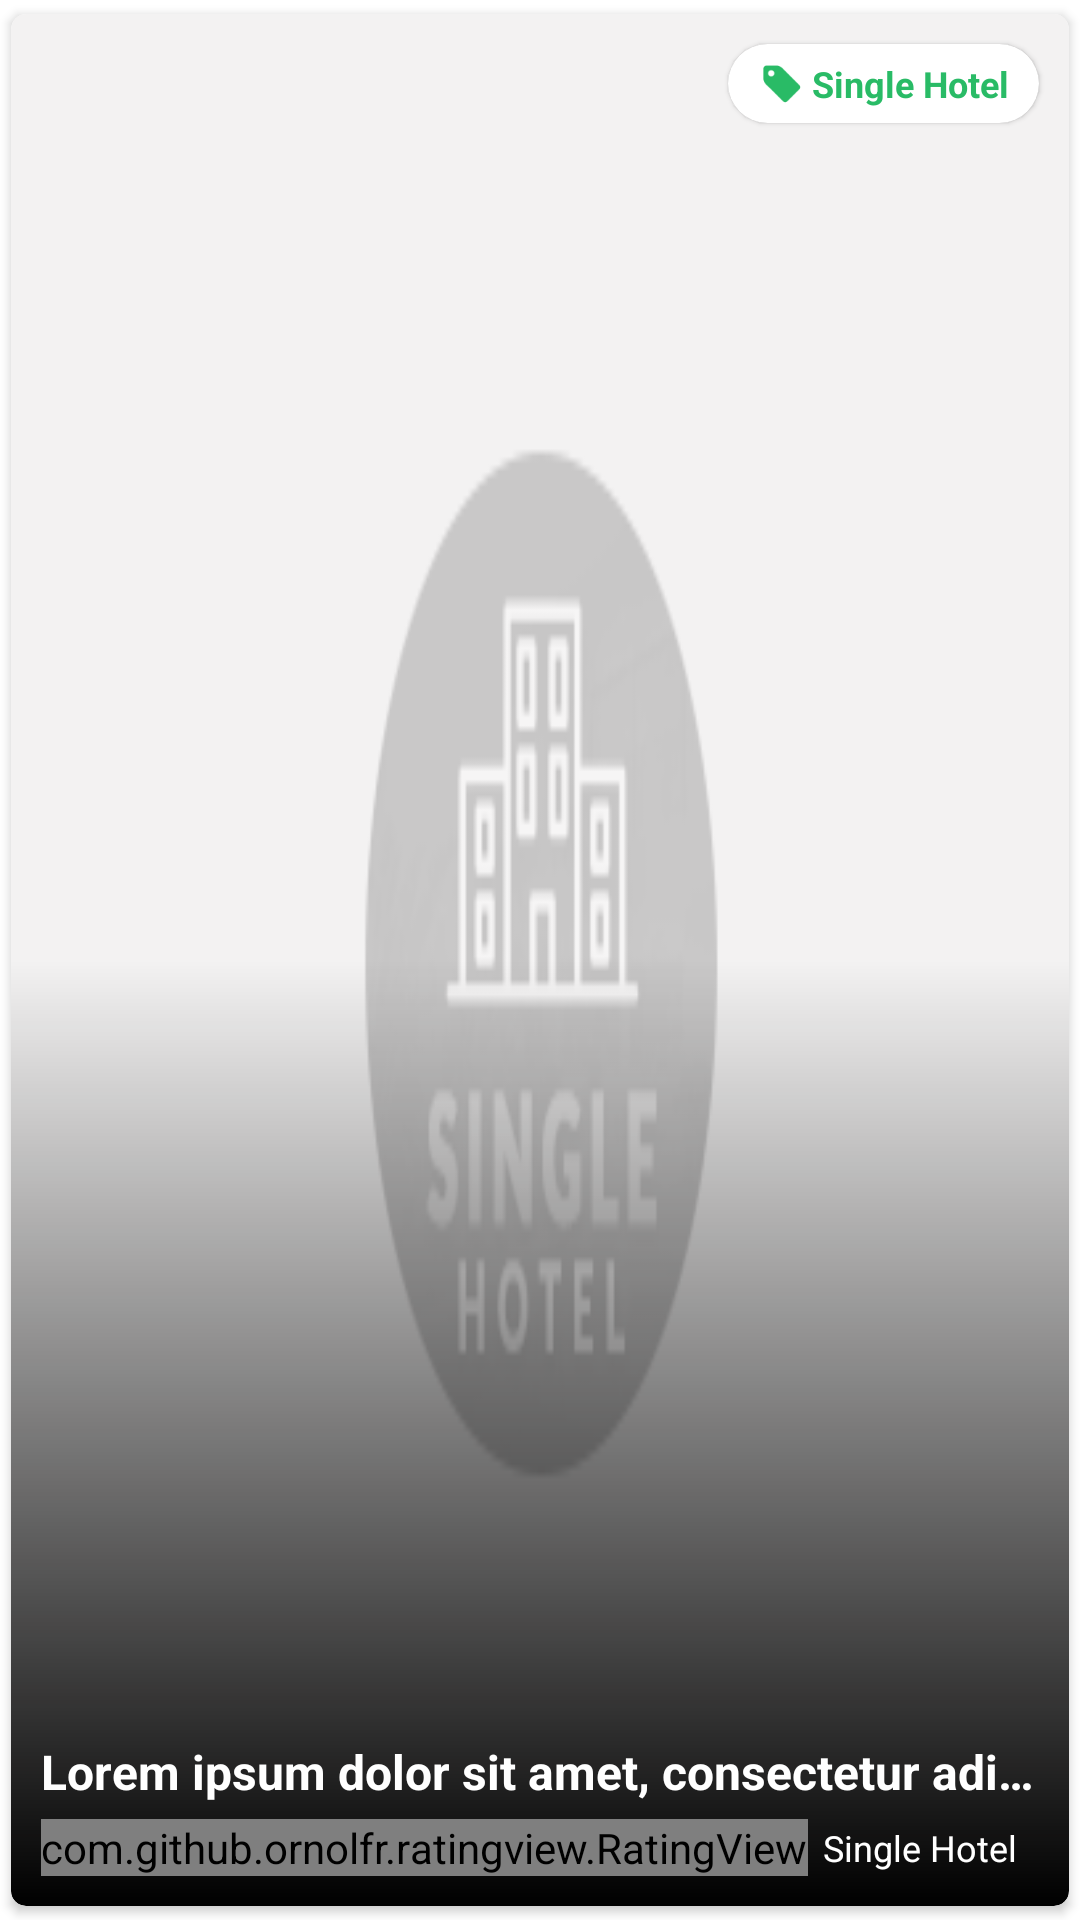

Where to tap for icons on this 1080 × 1920 app screen, as (x,y):
price: (782,84)
